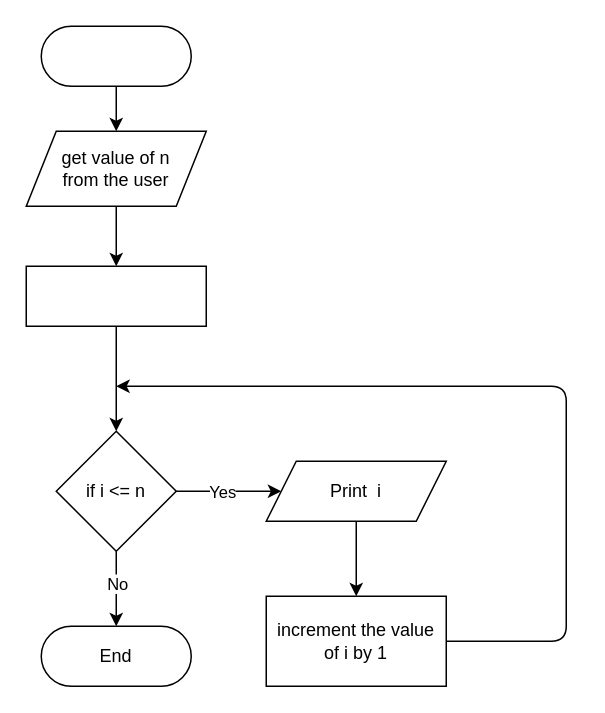
Some shapes in this 605 by 713 pixel diagram are drawn without their labels. Each missing label, with the box of its shape:
Initalize i with 1: (25, 265, 206, 326)
Start: (40, 25, 191, 86)
